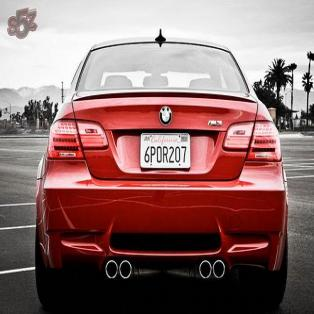Auto: (33, 29, 288, 310)
